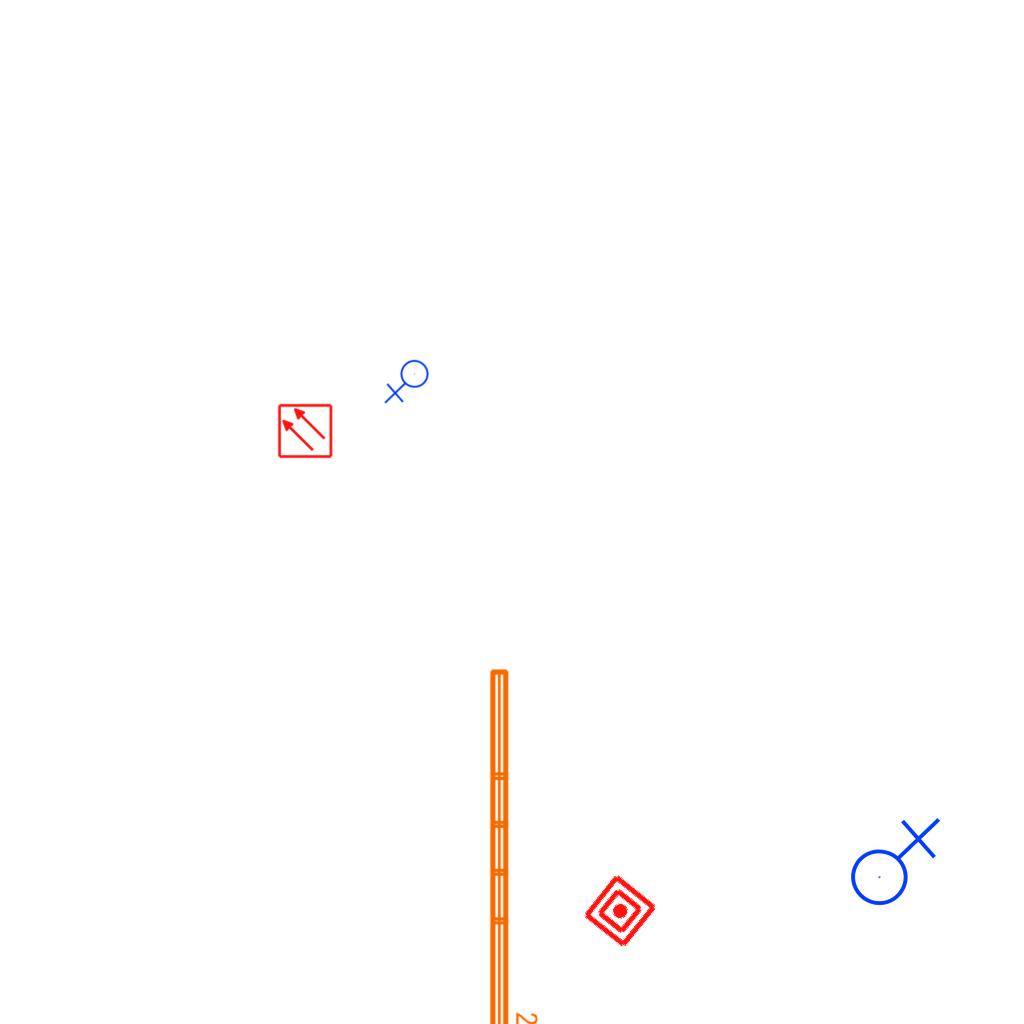Ambulanz_Pendelleuchte_LED: (484, 664, 540, 1024)
Elektroanschluss_allgemein_230V_Geraeteanschlussdose_230V: (842, 813, 941, 907), (384, 359, 433, 406)
NAM-Nichtautomatischer_Melder: (580, 871, 660, 951)
RMO_Rauchmelder_optischer: (277, 403, 333, 459)
